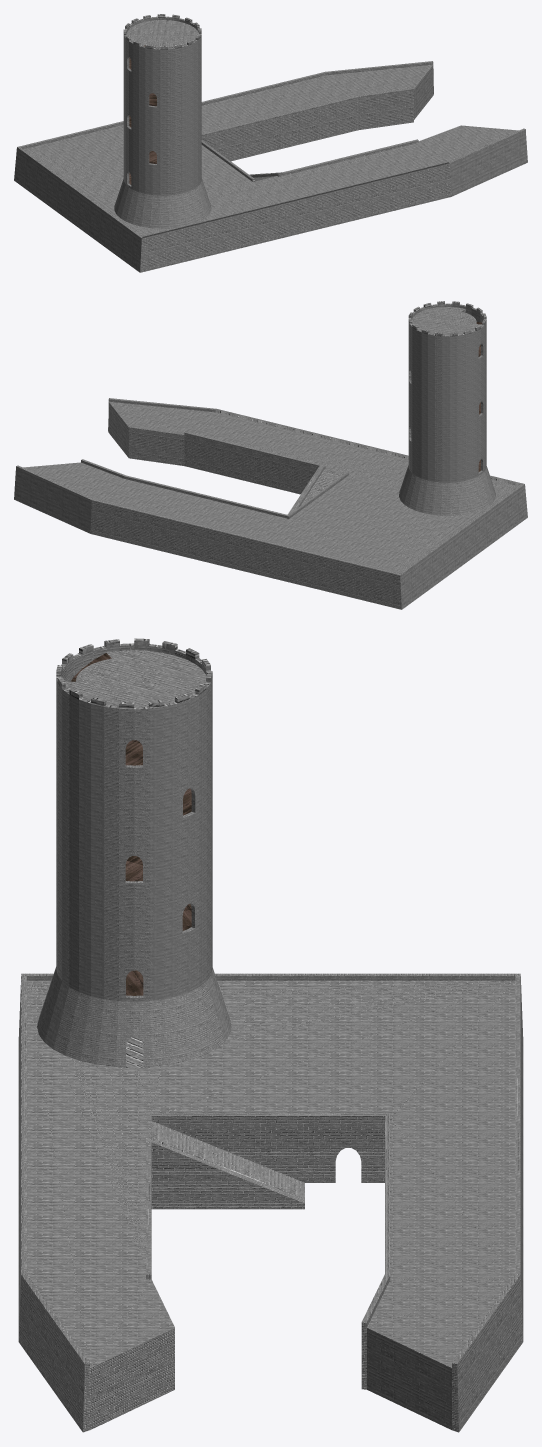
The model's file is Utgard.fbx.
The picture shows the model from 3 angles, top to bottom: view 1: azimuth 30°, elevation 25°; view 2: azimuth 150°, elevation 25°; view 3: azimuth 270°, elevation 25°; orthographic projection. The views are drawn at different scales.
Visible parts, largest first — view 1: Utgard; view 2: Utgard; view 3: Utgard.
Part boxes in pixels (x1,y1,x2,y2): Utgard: (14, 14, 527, 272); Utgard: (14, 301, 527, 609); Utgard: (18, 638, 523, 1432).
Bounding box in the file's own units: 8591 × 4241 × 4646.
